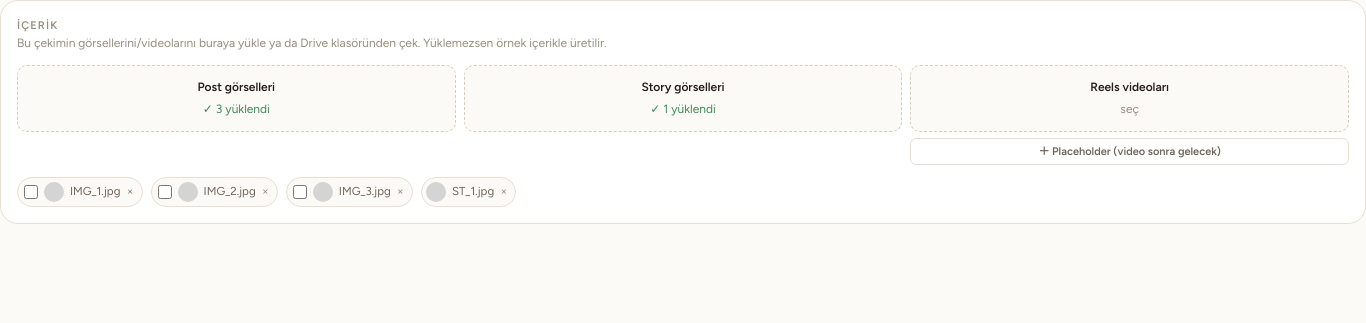
Test: ContentUploader — manual carousel creation › shows the server's error when the merge is refused
The image size is (1366, 323).
Click the checkbox named "IMG_1.jpg — kaydırmalı için seç".
click(31, 192)  # box [24,185,38,199]
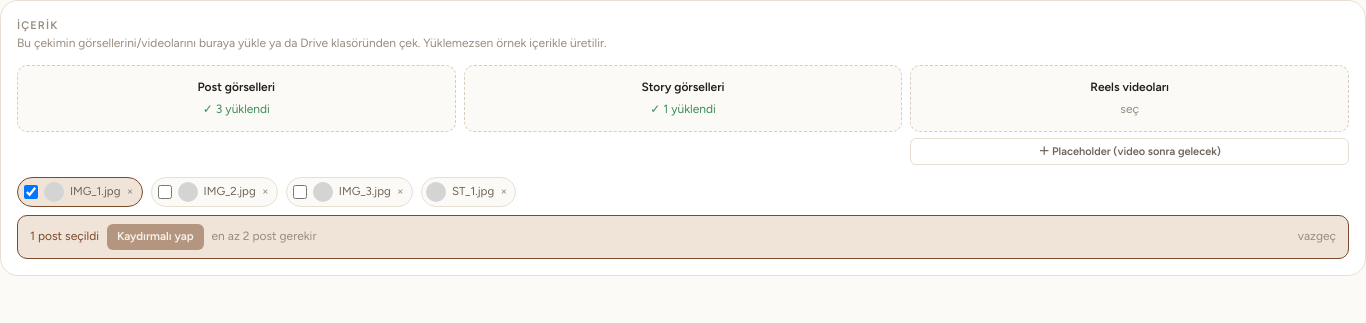
Click the checkbox named "IMG_2.jpg — kaydırmalı için seç".
click(165, 192)  # box [158,185,172,199]
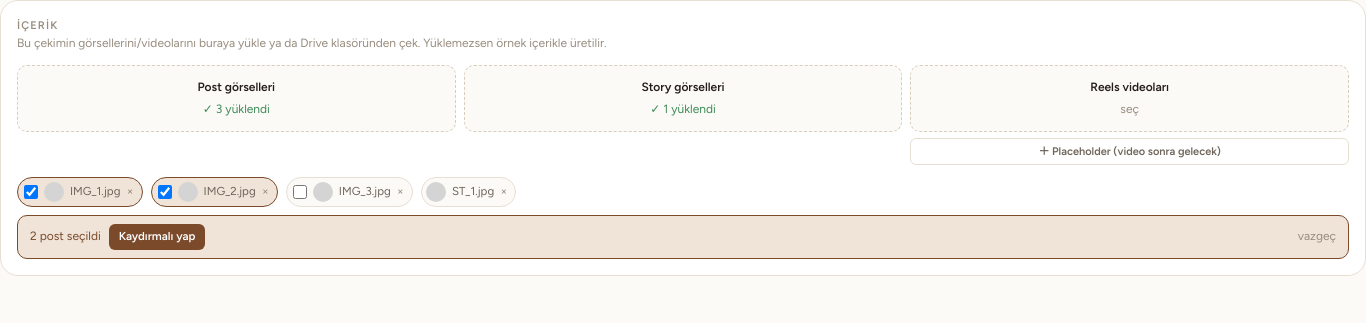
Click the button "Kaydırmalı yap".
click(157, 237)  # box [109,224,205,250]
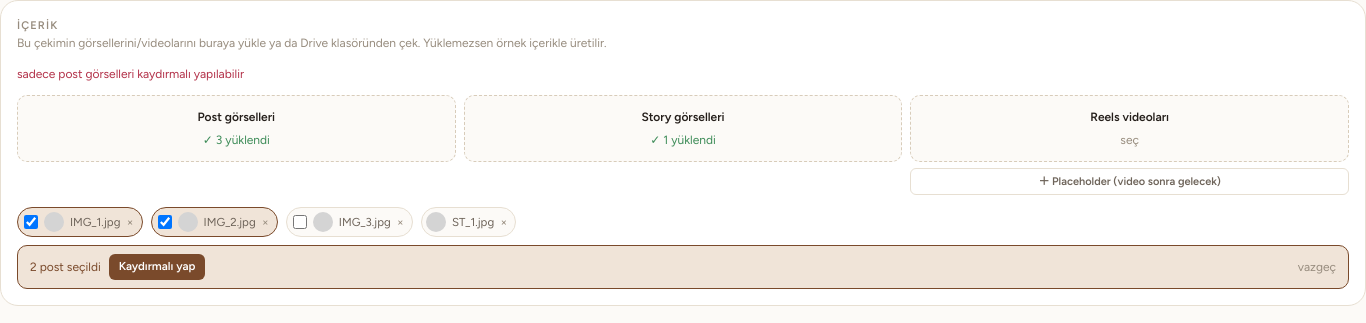
Now the text "sadece post görselleri kaydırmalı yapılabilir" is shown, box [17,67,244,81]
